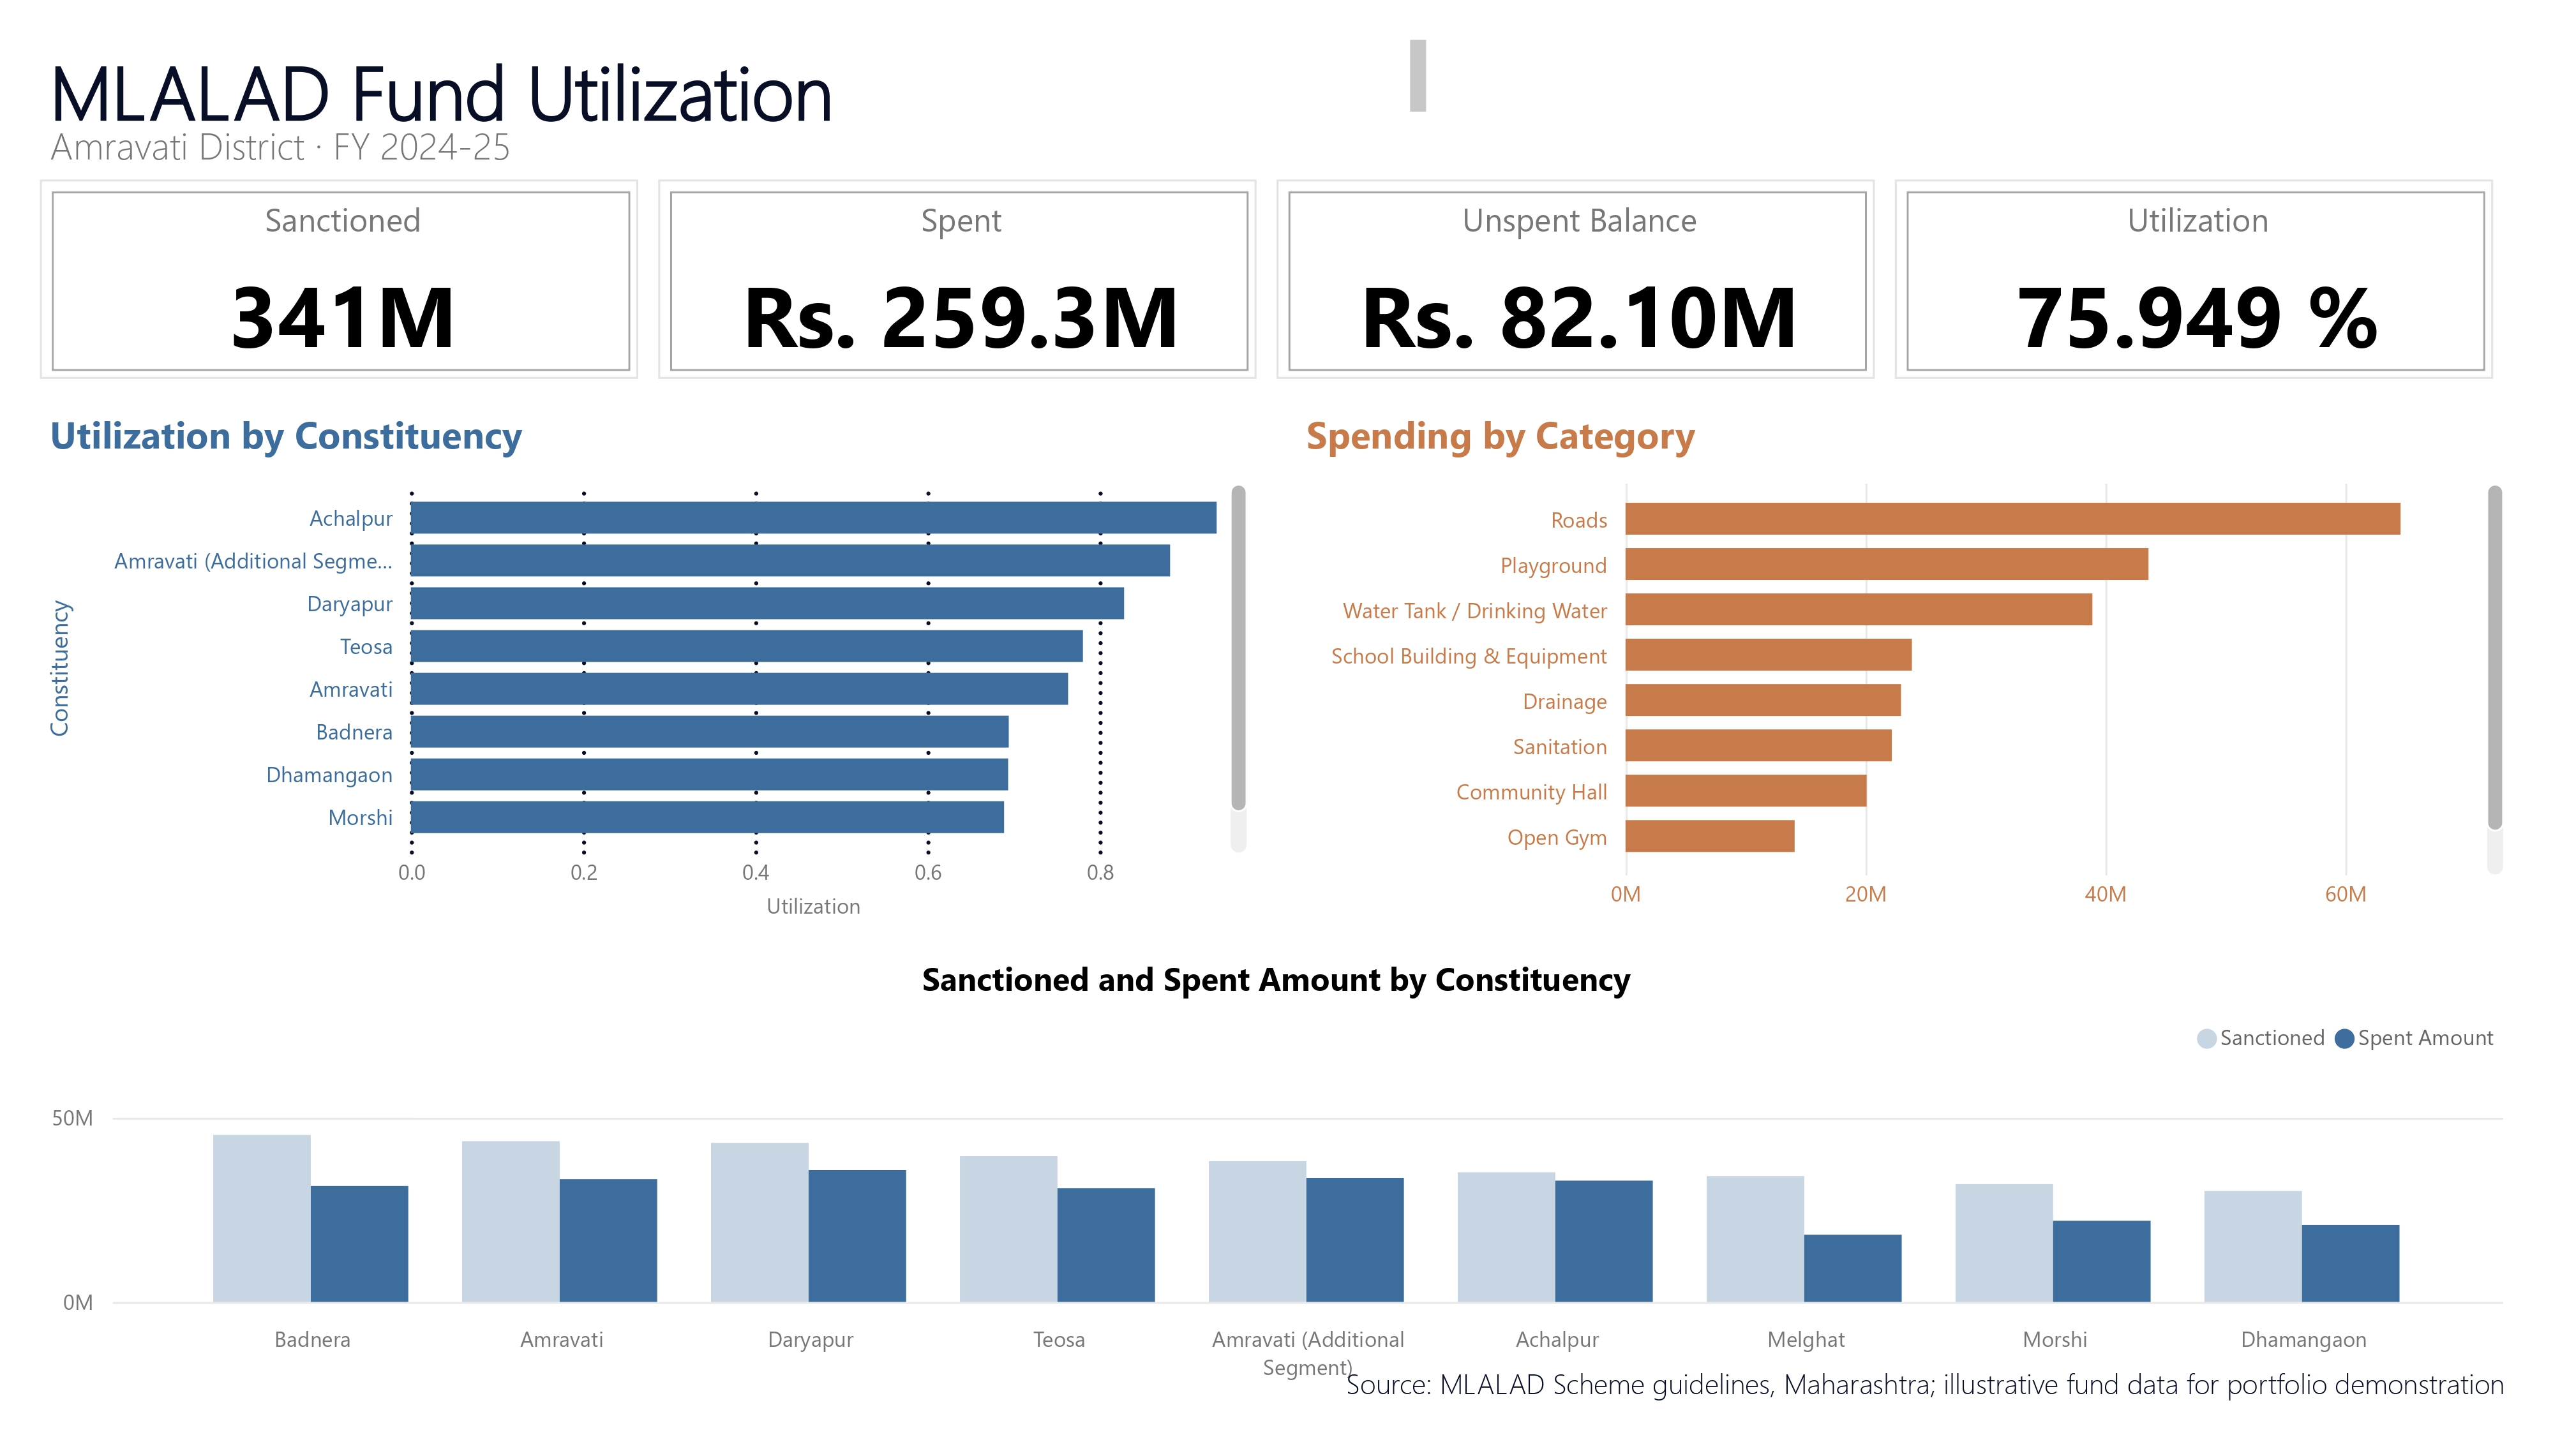

What the dashboard file says about the page in this screenshot:
{"tool":"powerbi","page":{"name":"Page 1","canvas":[1280,720],"ordinal":0},"visuals":[{"type":"textbox","box":[20,10,700,52],"z":0},{"type":"textbox","box":[20,50,400,36],"z":1},{"type":"cardVisual","fields":{"Data":["Sum(mla_fund_dataset.Sanctioned)"]},"box":[20,85,300,100],"z":2},{"type":"cardVisual","fields":{"Data":["Sum(mla_fund_dataset.Remaining_Balance)"]},"box":[640,85,300,100],"z":3},{"type":"cardVisual","fields":{"Data":["Sum(mla_fund_dataset.Spent_Amount)"]},"box":[330,85,300,100],"z":4},{"type":"cardVisual","fields":{"Data":["mla_fund_dataset.Utilization %"]},"box":[950,85,300,100],"z":5},{"type":"clusteredBarChart","title":"Utilization by Constituency","fields":{"Category":["mla_fund_dataset.Constituency"],"Y":["mla_fund_dataset.Utilization %"]},"box":[20,200,610,260],"z":6},{"type":"clusteredBarChart","title":"Spending by Category","fields":{"Category":["mla_fund_dataset.Category"],"Y":["Sum(mla_fund_dataset.Spent_Amount)"]},"box":[650,200,610,260],"z":7},{"type":"clusteredColumnChart","fields":{"Category":["mla_fund_dataset.Constituency"],"Y":["Sum(mla_fund_dataset.Sanctioned)","Sum(mla_fund_dataset.Spent_Amount)"]},"box":[20,475,1240,220],"z":8},{"type":"textbox","box":[670,674,610,46],"z":9}]}

Visuals, with their boxes in screenshot pixels (x1, y1, x2, y2), scaled from the page's 1280x720 canvas onto the 2553x1456 screenshot:
textbox: Rect(40, 20, 1436, 126)
textbox: Rect(40, 101, 837, 174)
cardVisual - Sum(mla_fund_dataset.Sanctioned): Rect(40, 172, 638, 374)
cardVisual - Sum(mla_fund_dataset.Remaining_Balance): Rect(1276, 172, 1875, 374)
cardVisual - Sum(mla_fund_dataset.Spent_Amount): Rect(658, 172, 1257, 374)
cardVisual - mla_fund_dataset.Utilization %: Rect(1895, 172, 2493, 374)
"Utilization by Constituency" clusteredBarChart: Rect(40, 405, 1257, 930)
"Spending by Category" clusteredBarChart: Rect(1296, 405, 2513, 930)
clusteredColumnChart - mla_fund_dataset.Constituency x Sum(mla_fund_dataset.Sanctioned): Rect(40, 960, 2513, 1406)
textbox: Rect(1336, 1363, 2552, 1455)
